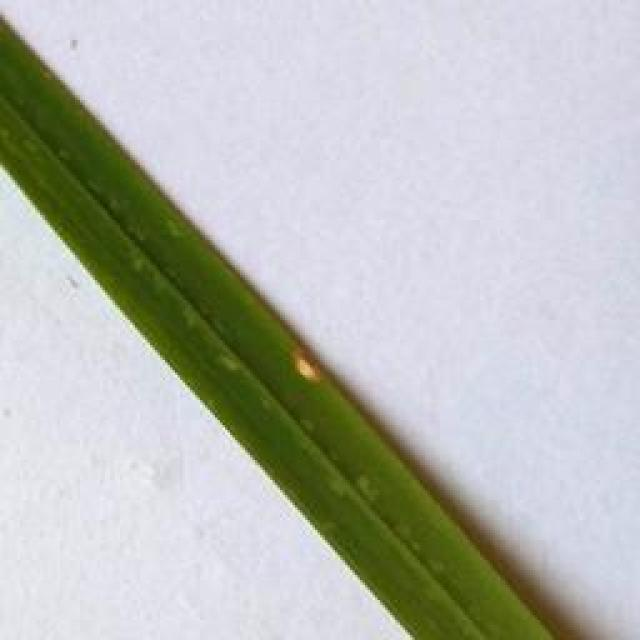Unhealthy: (289, 342, 324, 380)
